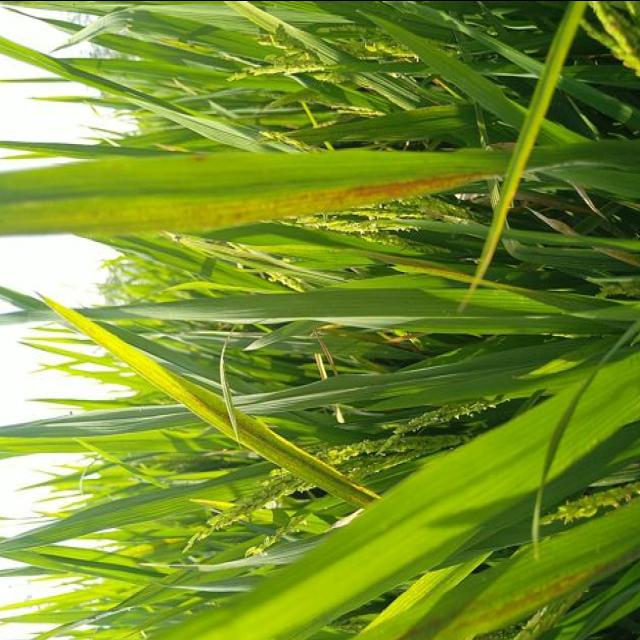Leaf Streak: (54, 305, 378, 507), (0, 176, 475, 234), (435, 562, 596, 640), (391, 257, 475, 281), (182, 150, 228, 161)
